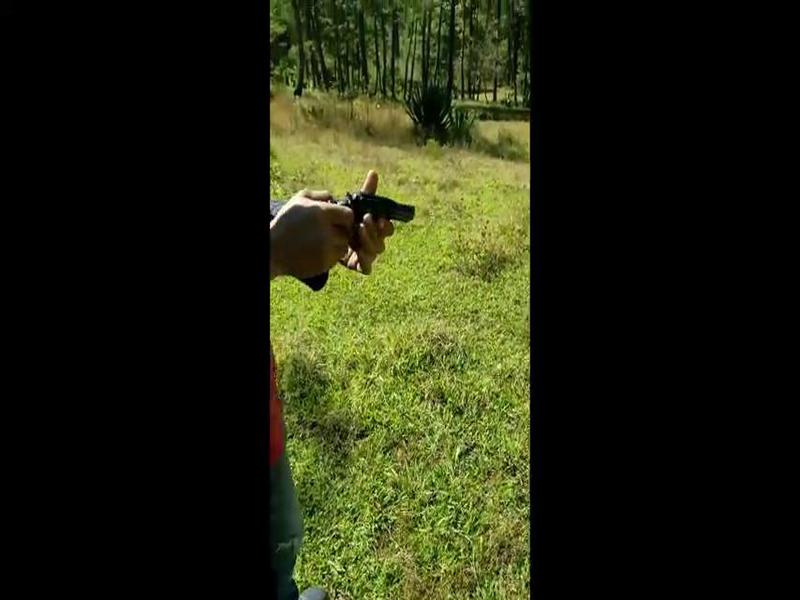Revolver: (317, 174, 428, 264)
